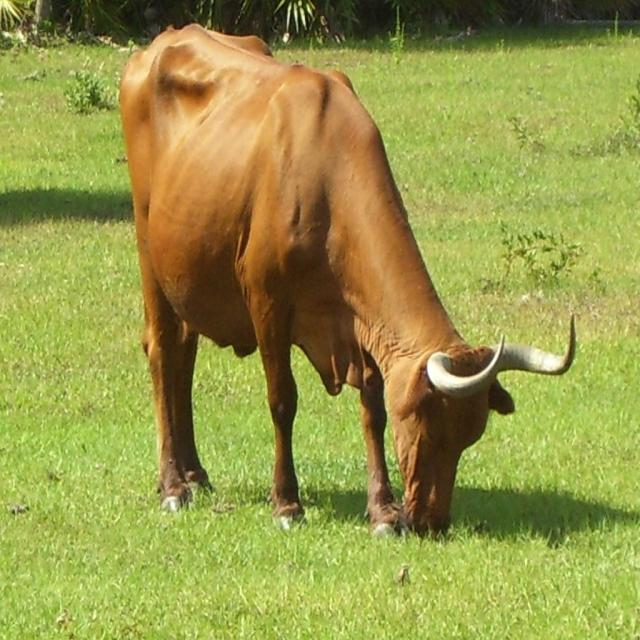cow: (120, 25, 575, 534)
